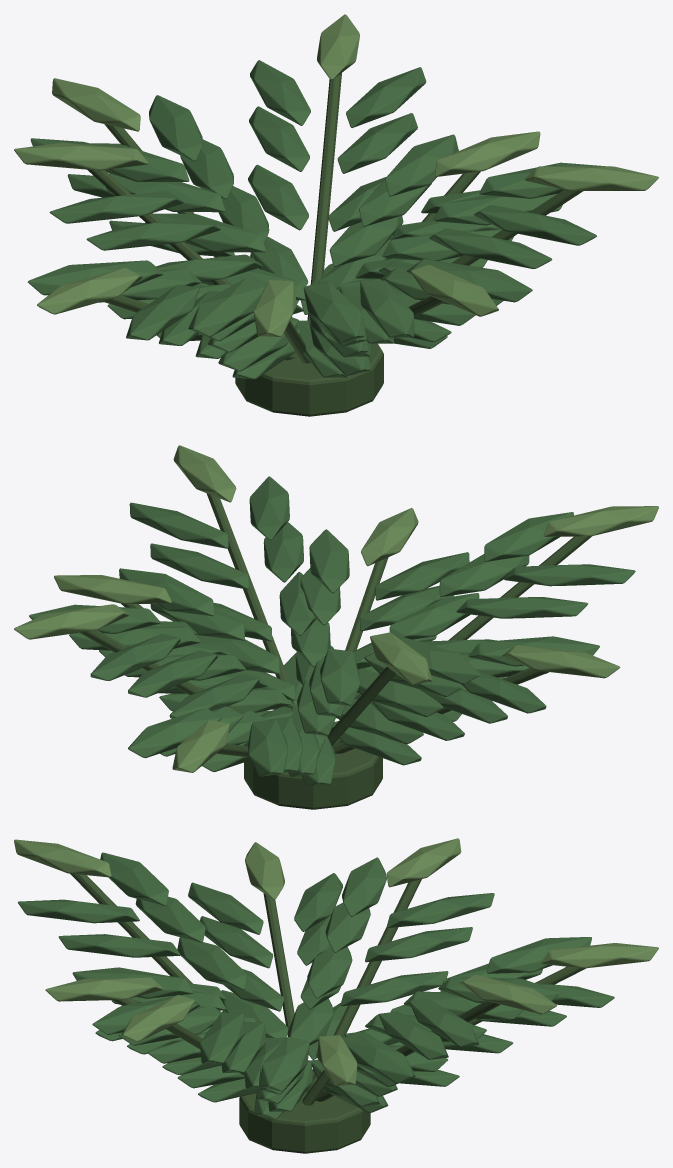
File: GroundPlant_FernPatch.fbx
The picture shows the model from 3 angles, top to bottom: view 1: azimuth 30°, elevation 25°; view 2: azimuth 150°, elevation 25°; view 3: azimuth 270°, elevation 25°; orthographic projection. The views are drawn at different scales.
Parts seen in each view (by area): view 1: Fern root crown.001, Fern tip.011, Fern tip.015, Fern curved stem.009, Fern leaflet.093, Fern leaflet.095, Fern tip.008, Fern leaflet.110, Fern leaflet.126, Fern leaflet.124, Fern tip.012, Fern tip.010 (+47 smaller); view 2: Fern root crown.001, Fern tip.008, Fern tip.013, Fern leaflet.110, Fern leaflet.108, Fern tip.012, Fern tip.009, Fern leaflet.125, Fern leaflet.127, Fern leaflet.086, Fern leaflet.109, Fern leaflet.118 (+53 smaller); view 3: Fern root crown.001, Fern tip.010, Fern tip.014, Fern leaflet.109, Fern leaflet.111, Fern tip.013, Fern leaflet.092, Fern leaflet.094, Fern leaflet.090, Fern leaflet.106, Fern leaflet.071, Fern tip.009 (+48 smaller).
Part boxes in pixels (bbox=[...]): Fern root crown.001: bbox=[235, 343, 383, 416]; Fern tip.011: bbox=[14, 142, 148, 170]; Fern tip.015: bbox=[524, 166, 658, 190]; Fern curved stem.009: bbox=[307, 73, 341, 320]; Fern leaflet.093: bbox=[86, 218, 220, 250]; Fern leaflet.095: bbox=[49, 191, 183, 223]; Fern tip.008: bbox=[435, 131, 540, 176]; Fern leaflet.110: bbox=[188, 277, 266, 336]; Fern leaflet.126: bbox=[474, 205, 596, 245]; Fern leaflet.124: bbox=[429, 228, 552, 268]; Fern tip.012: bbox=[37, 268, 142, 314]; Fern tip.010: bbox=[52, 78, 140, 131]; Fern root crown.001: bbox=[244, 748, 382, 809]; Fern tip.008: bbox=[54, 575, 171, 604]; Fern tip.013: bbox=[543, 506, 658, 536]; Fern leaflet.110: bbox=[504, 564, 635, 586]; Fern leaflet.108: bbox=[456, 597, 587, 618]; Fern tip.012: bbox=[502, 645, 620, 678]; Fern tip.009: bbox=[14, 604, 129, 639]; Fern leaflet.125: bbox=[150, 543, 249, 589]; Fern leaflet.127: bbox=[129, 502, 228, 548]; Fern leaflet.086: bbox=[128, 708, 221, 758]; Fern leaflet.109: bbox=[439, 554, 529, 596]; Fern leaflet.118: bbox=[375, 552, 469, 600]; Fern root crown.001: bbox=[239, 1069, 370, 1153]; Fern tip.010: bbox=[541, 943, 658, 968]; Fern tip.014: bbox=[45, 977, 163, 1001]; Fern leaflet.109: bbox=[58, 934, 180, 957]; Fern leaflet.111: bbox=[18, 899, 139, 923]; Fern tip.013: bbox=[14, 839, 111, 877]; Fern leaflet.092: bbox=[365, 927, 472, 962]; Fern leaflet.094: bbox=[386, 893, 494, 927]; Fern leaflet.090: bbox=[340, 971, 448, 1006]; Fern leaflet.106: bbox=[177, 937, 246, 989]; Fern leaflet.071: bbox=[342, 1032, 415, 1083]; Fern tip.009: bbox=[459, 974, 557, 1014].
Size of the model in its own units: 1.9 by 0.755 by 2.16.
